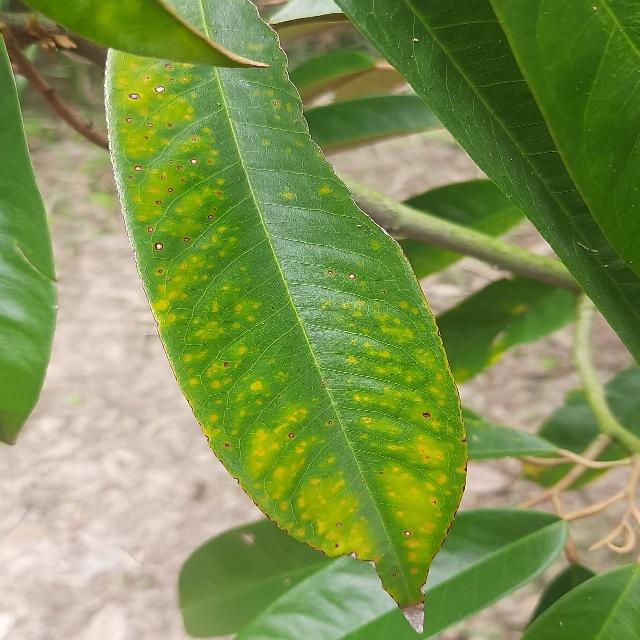Leaf Spot: (89, 0, 477, 640)
